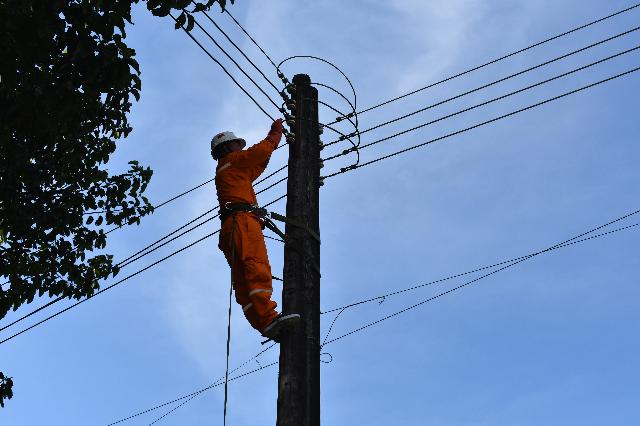gloves: (261, 119, 299, 150)
harness: (216, 193, 290, 234)
helmet: (205, 126, 254, 154)
shoes: (257, 311, 313, 333)
